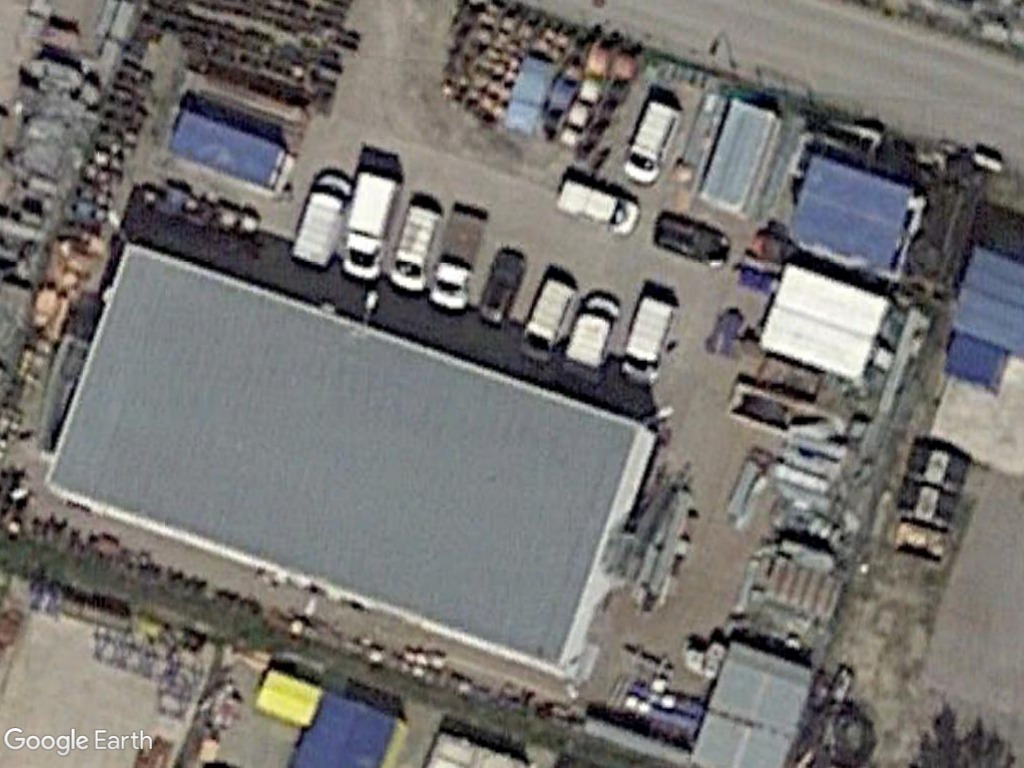others: (426, 204, 490, 312)
truck: (335, 159, 405, 283)
van: (287, 170, 357, 268), (616, 292, 679, 387), (555, 292, 618, 386), (514, 275, 579, 364), (623, 97, 682, 189), (556, 174, 642, 237), (388, 197, 442, 295)
